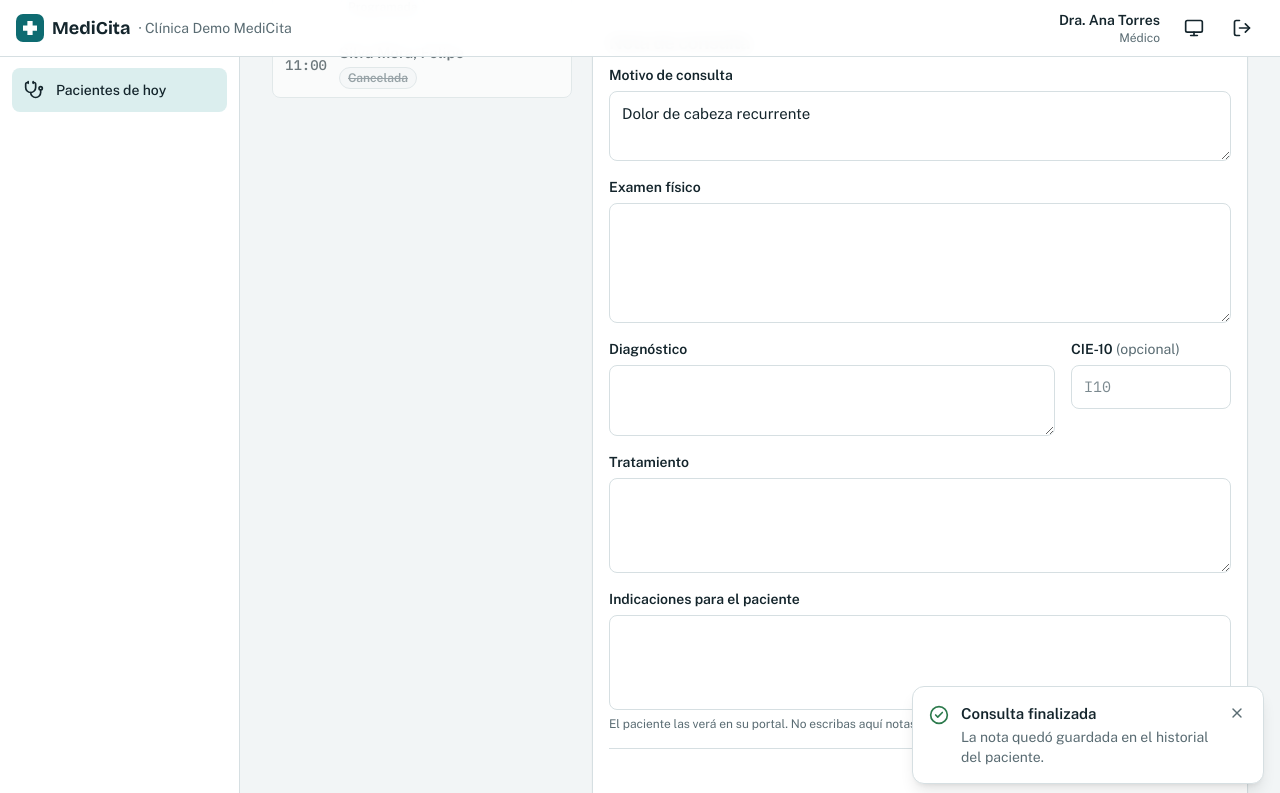
it: consulta del médico › guarda el borrador en el servidor
The image size is (1280, 793).
(page scrolled)
Type "Migraña" into the text box labelled "Diagnóstico" at (832,400), box [609,365,1055,436]
(page scrolled)
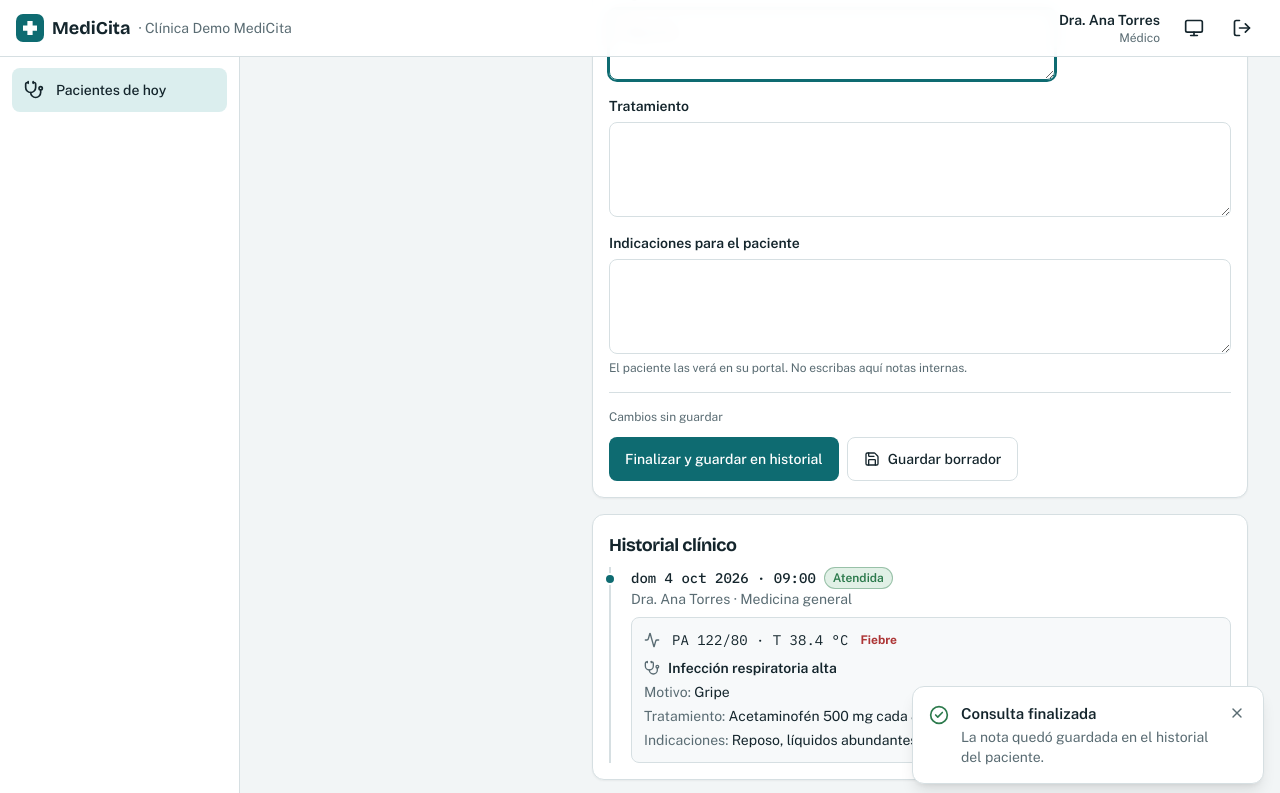
Click the button "Guardar borrador" at (932,459), box [847,437,1018,481]
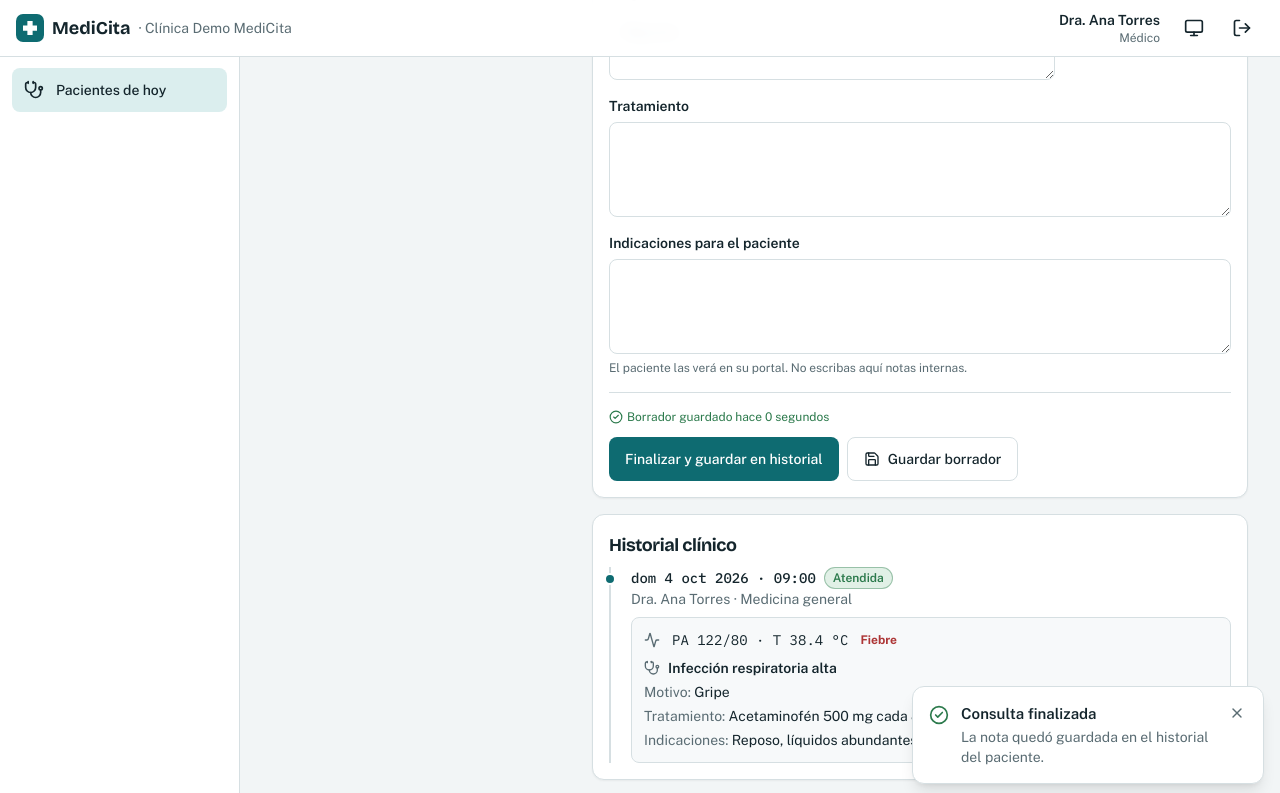
Result: the text "Borrador guardado hace 0 segundos" is shown at [609,410,829,424]
